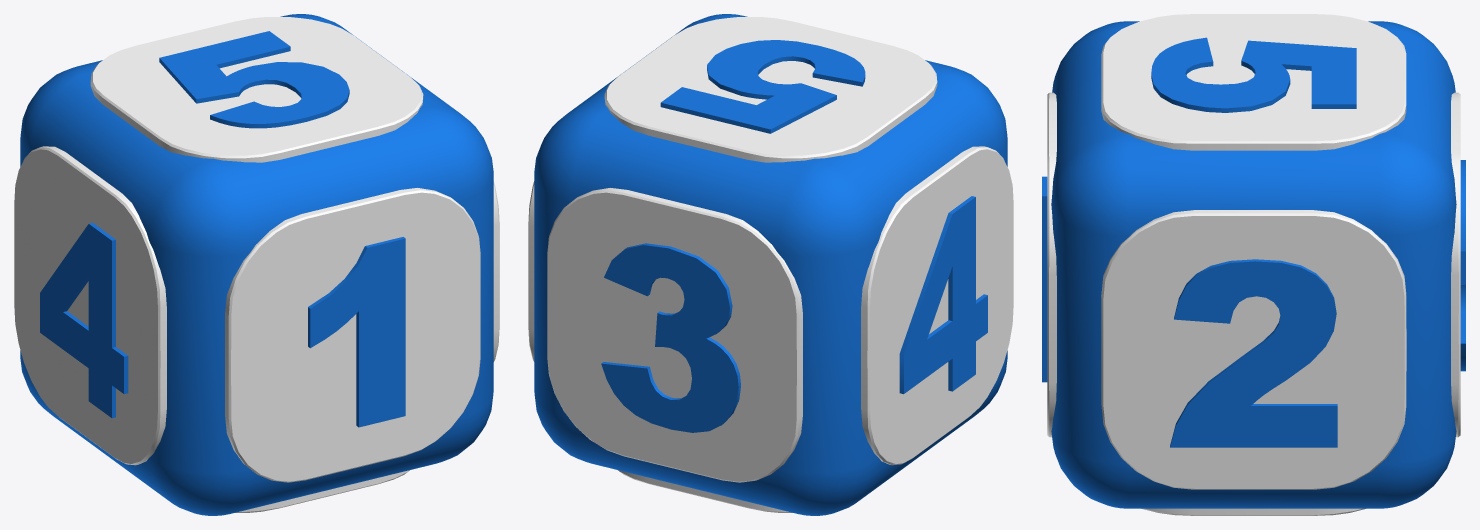
File: Cubic.FBX
3 renders of one model, left to right at view 1: azimuth 30°, elevation 25°; view 2: azimuth 150°, elevation 25°; view 3: azimuth 270°, elevation 25°, orthographic. The views are drawn at different scales.
Visible parts, largest first — view 1: Cubic; view 2: Cubic; view 3: Cubic.
Part boxes in pixels (<box>): Cubic: <box>14,14,499,515</box>; Cubic: <box>528,14,1013,515</box>; Cubic: <box>1042,14,1465,515</box>.
Size of the model in its own units: 107 by 107 by 107.
